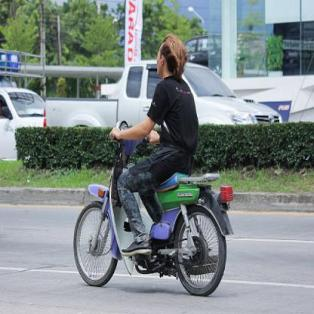Motocicleta: (71, 110, 235, 304)
